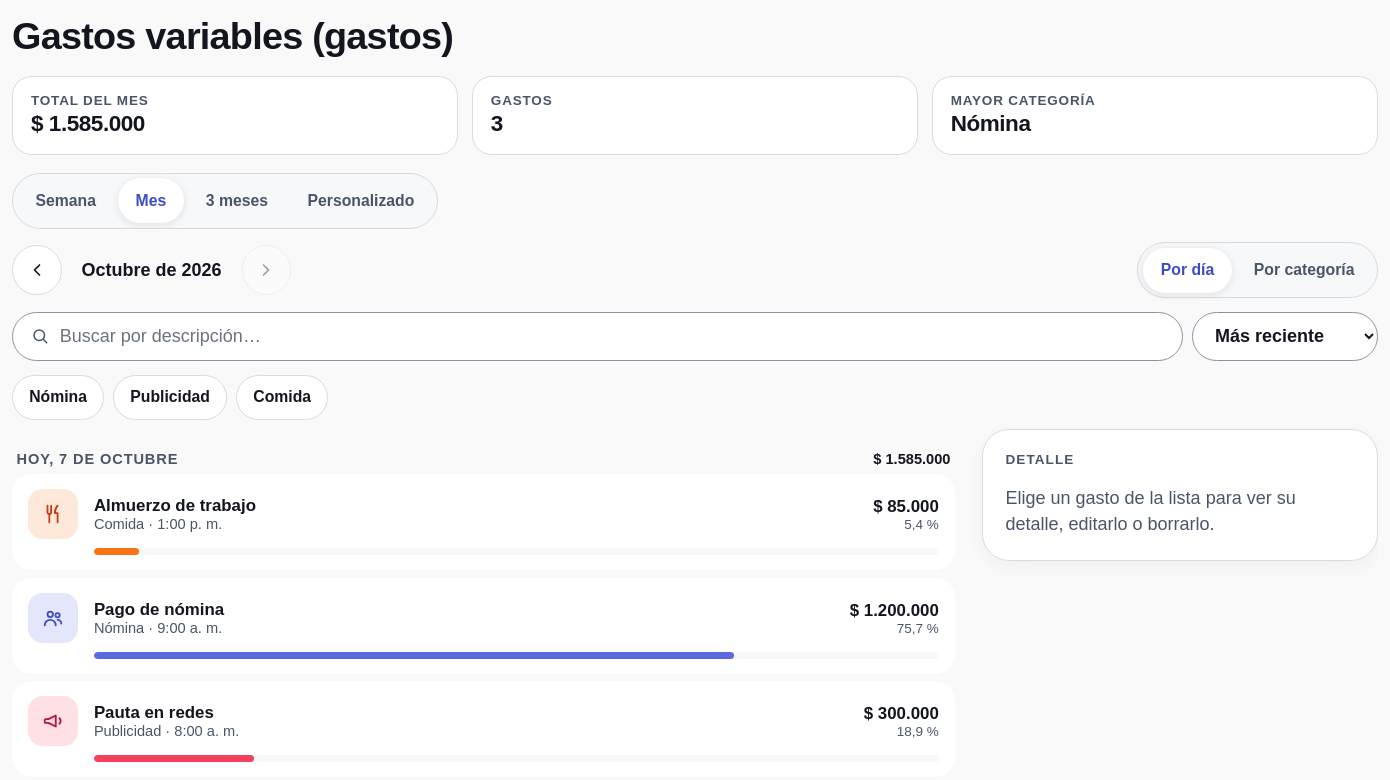
PaginaLista › no deja ir al mes siguiente al estar en el mes actual y sí al anterior
The width and height of the screenshot is (1390, 780).
Check: the button named "Mes siguiente" is disabled, box [242, 245, 291, 295]
Click the button named "Mes anterior" at x=37, y=270, box [12, 245, 62, 295]
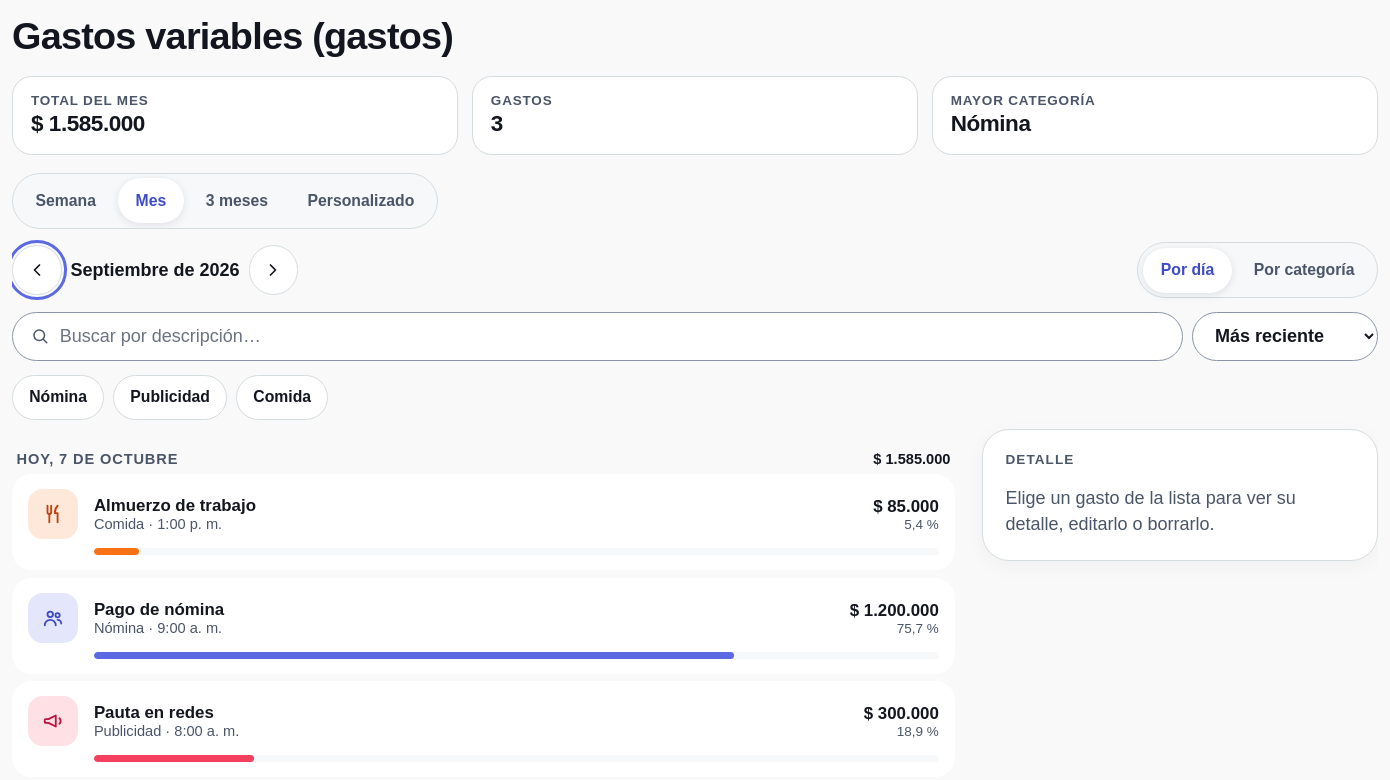
Check: the button named "Mes siguiente" is enabled, box [249, 245, 298, 295]
